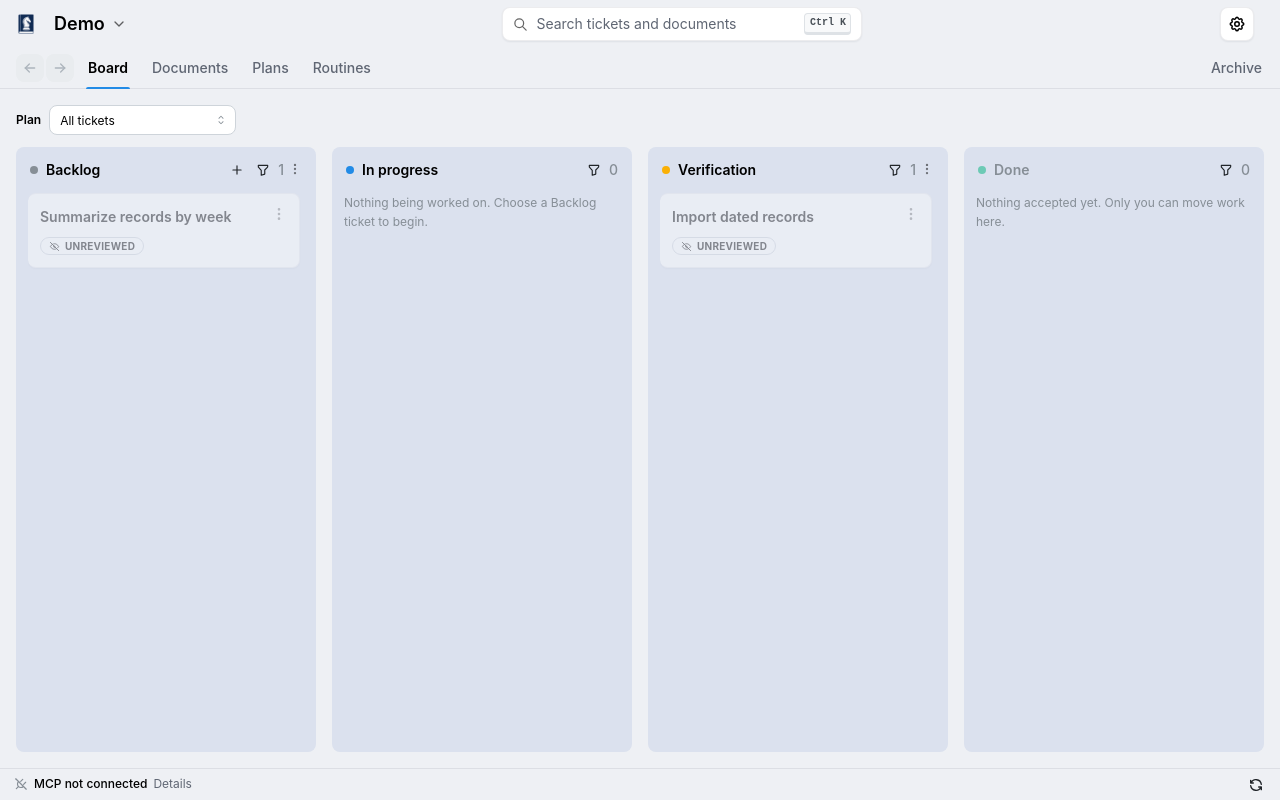
Test case: results › says when a ticket file could not be searched, so it cannot look like no match
Expected: the text "Import dated records" is shown, [672,208,814,225]
Click the button "Search tickets and documents Ctrl K" at x=682, y=24, box [502,7,862,41]
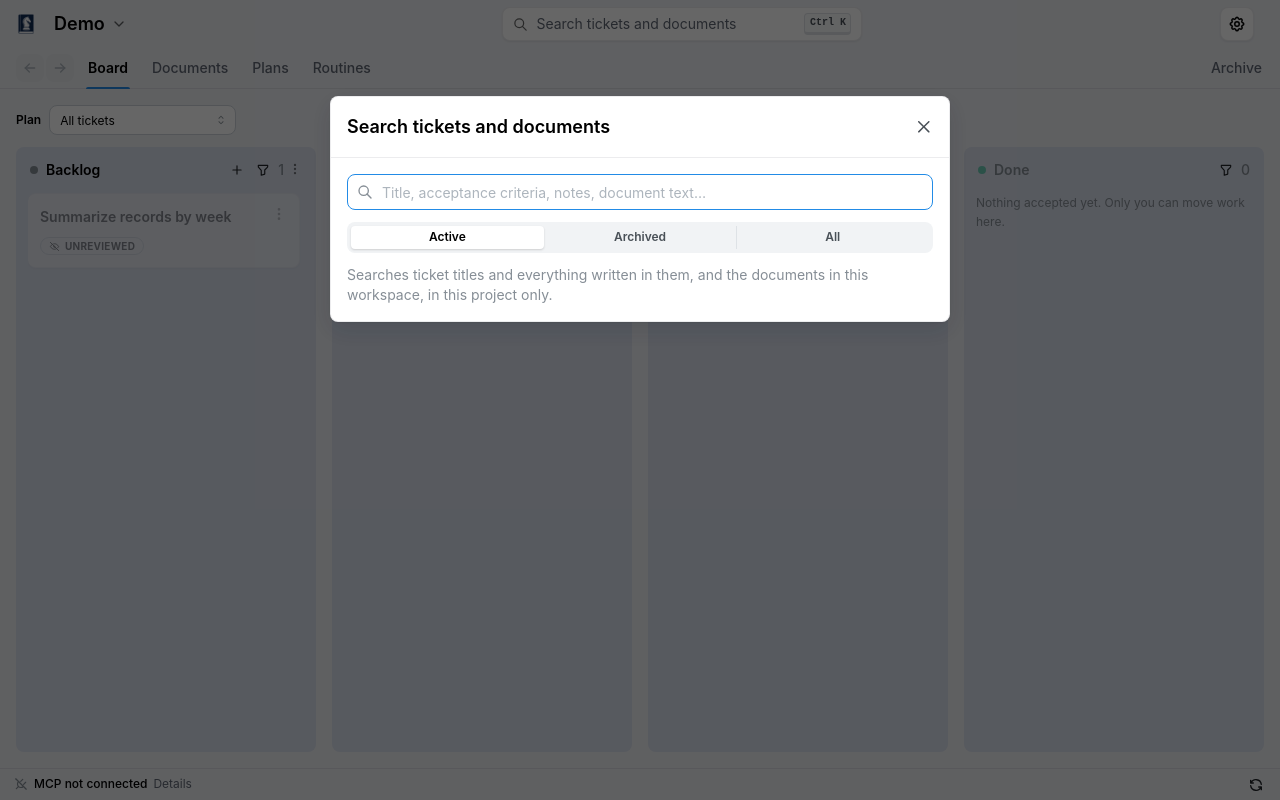
Type "import" into the field named "Search tickets and documents" at x=640, y=192, box [347,174,933,210]
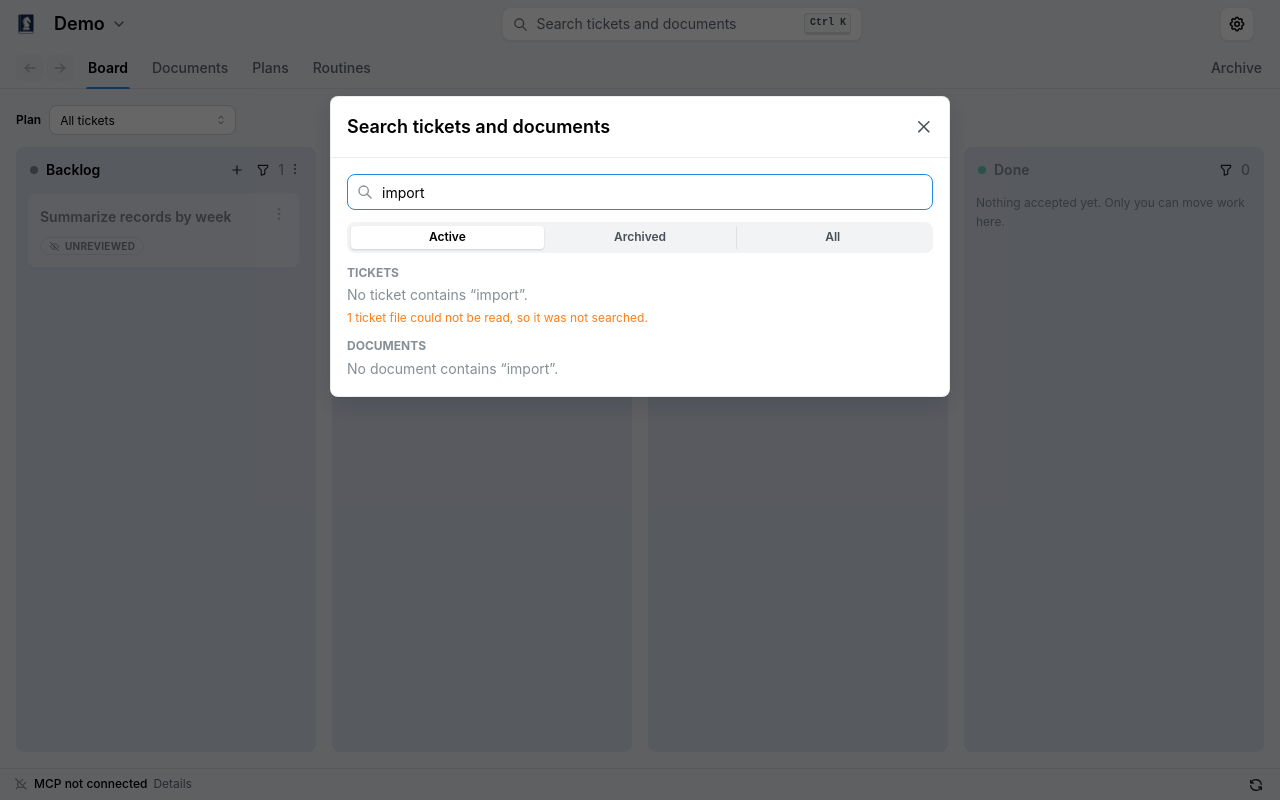
Expected: the text "1 ticket file could not be read, so it was not searched." is shown, [347,310,648,325]
